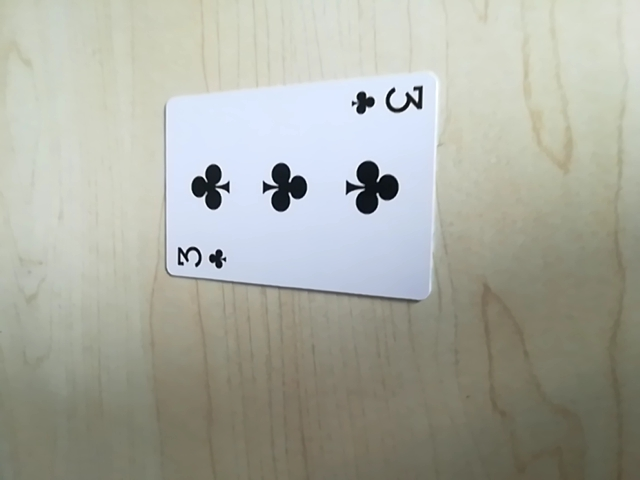mh 3: (348, 79, 424, 121), (168, 239, 231, 276)
